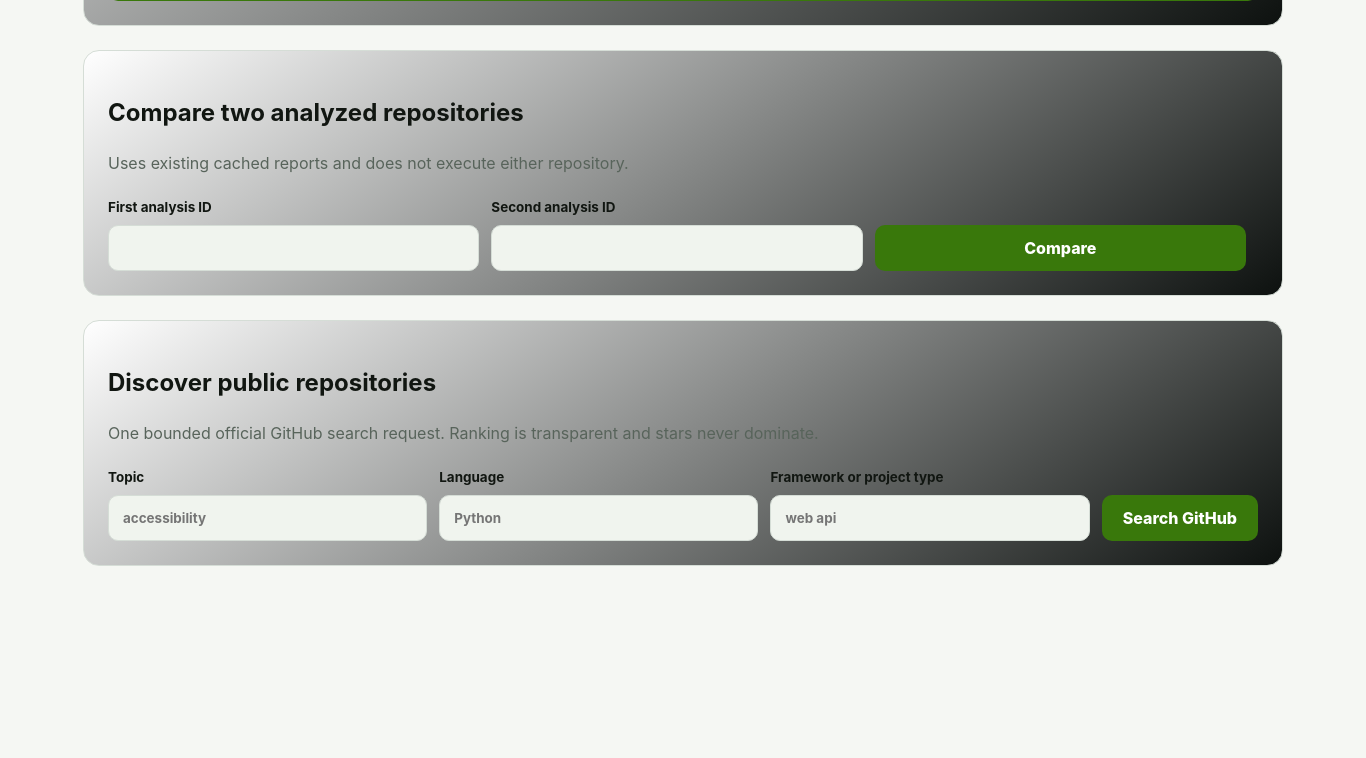
Test: product tools › shows transparent discovery ranking
(page scrolled)
Type "api" into the field with placeholder "accessibility" at (268, 518), box [108,495,427,541]
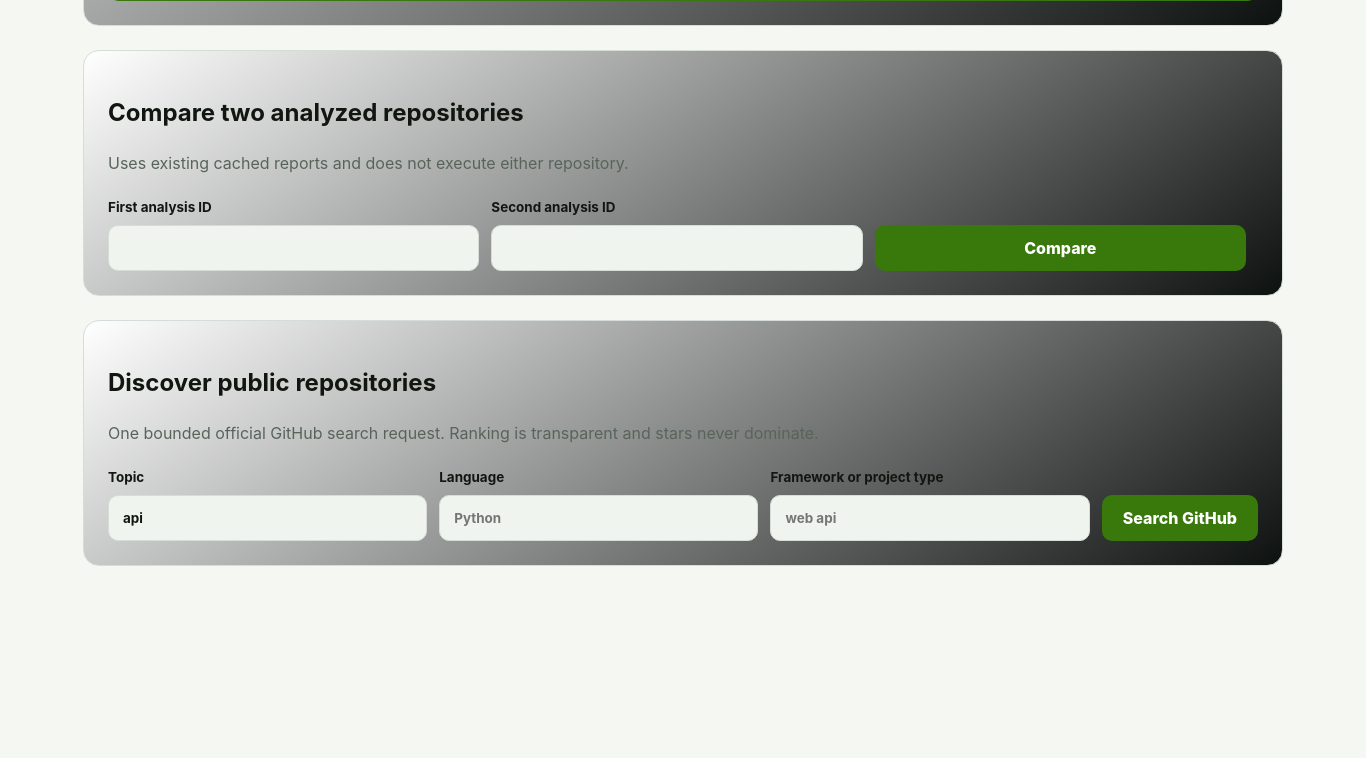
Click the button "Search GitHub" at (1180, 518), box [1102,495,1258,541]
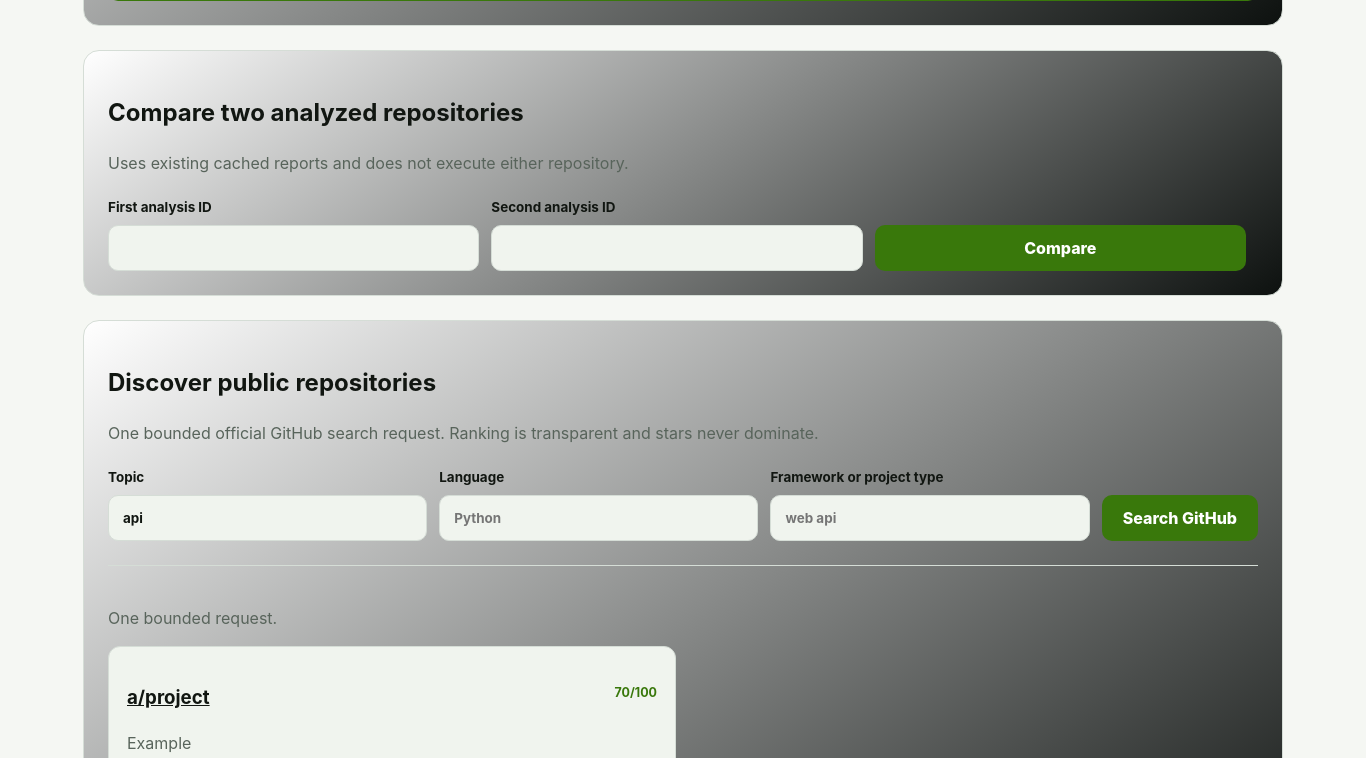
Expected: the link "a/project" is shown, [127,684,210,712]
Expected: the text "70/100" is shown, [614,685,657,700]
